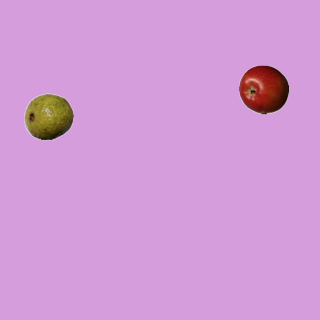Apple Braeburn: (238, 64, 288, 114)
Guava: (23, 91, 73, 141)
